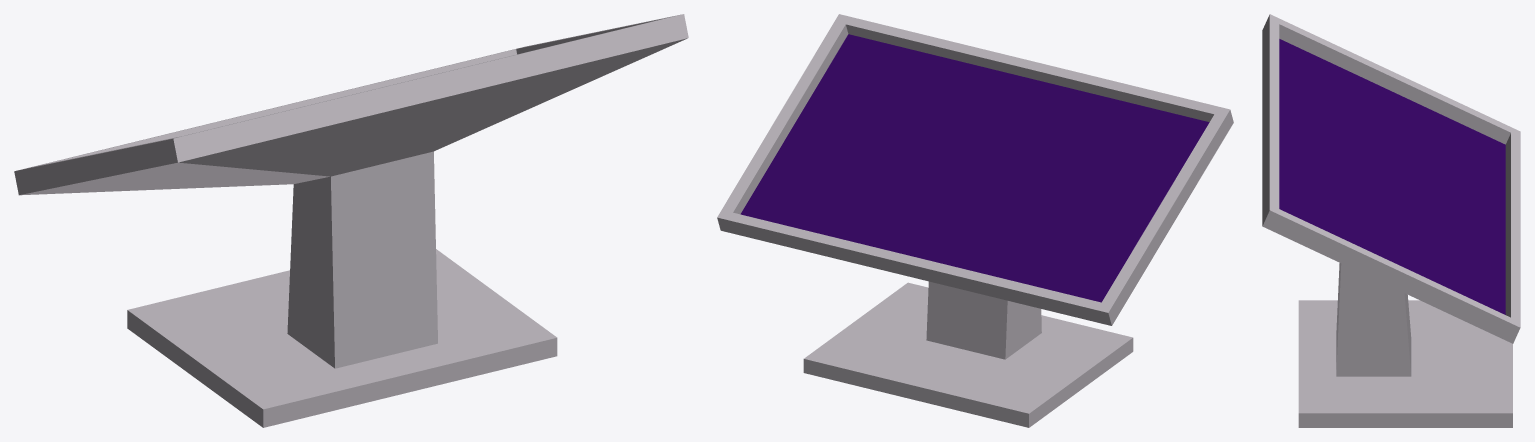
Rendered from 太阳能板.fbx.
3 renders of one model, left to right at view 1: azimuth 30°, elevation 25°; view 2: azimuth 150°, elevation 25°; view 3: azimuth 270°, elevation 25°, orthographic. The views are drawn at different scales.
Visible parts, largest first — view 1: 太阳能板; view 2: 太阳能板; view 3: 太阳能板.
Boxes of the visible parts, x1,y1,x2,y2 form: 太阳能板: (14, 14, 688, 427); 太阳能板: (717, 14, 1233, 427); 太阳能板: (1262, 14, 1520, 427).
Size of the model in its own units: 322 by 199 by 179.
